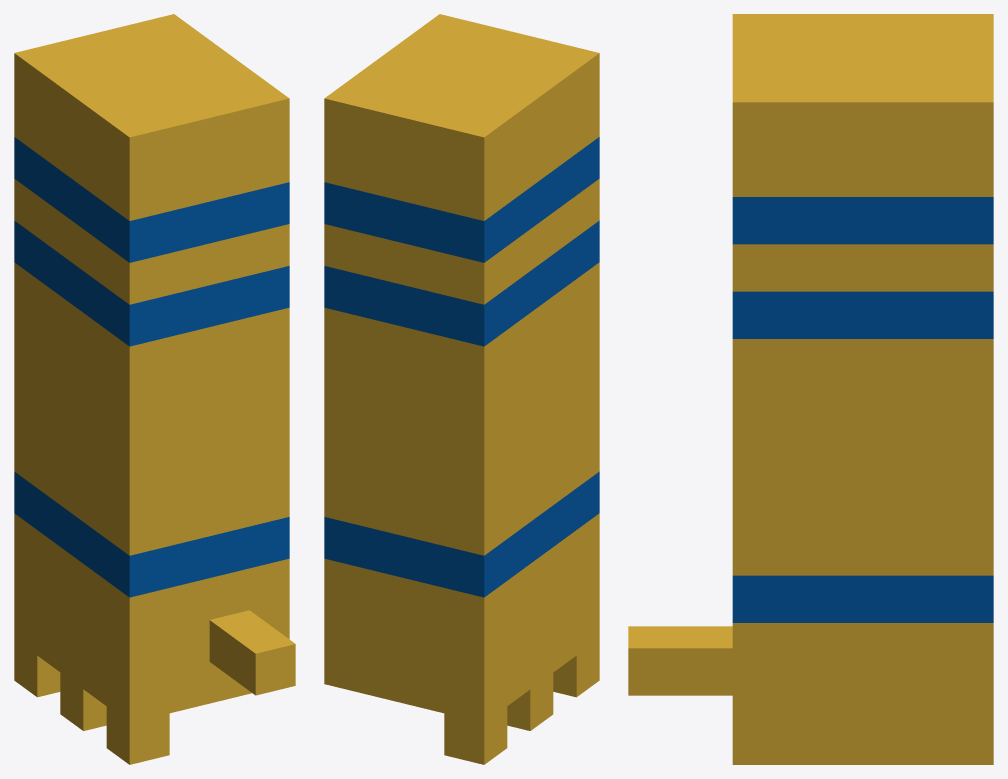
Rendered from Bastet-3.obj.
3 views of the same model, side by side, from view 1: azimuth 30°, elevation 25°; view 2: azimuth 150°, elevation 25°; view 3: azimuth 270°, elevation 25° (orthographic). The views are drawn at different scales.
Bounding box in the file's own units: 0.4 × 1.5 × 0.7.
Materials: 1 (1 with a texture image).
